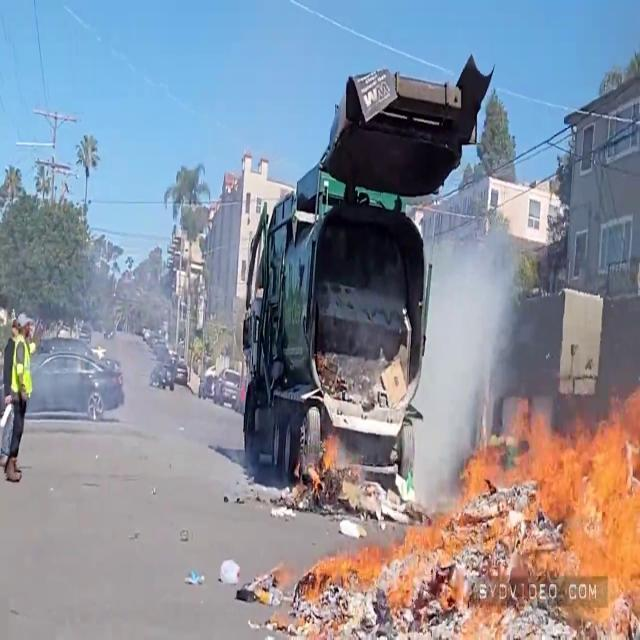Fire: (486, 376, 640, 623), (303, 516, 463, 600)
Smoke: (404, 186, 528, 518)
